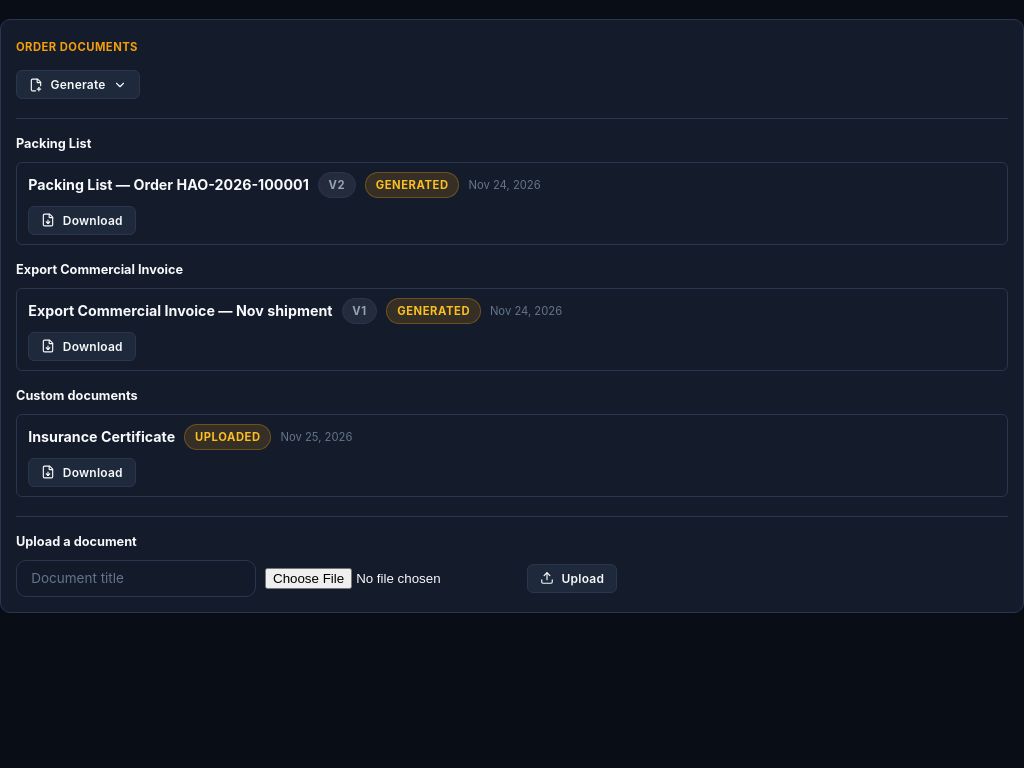
Test case: DocumentsPanel — generate › POSTs { type: packing_list } and the list refreshes
This screenshot has width=1024, height=768.
What coordinates should you click on to do the following:
click the button "Generate"
I would click on:
 (78, 84)
Its box is [16, 70, 140, 99].
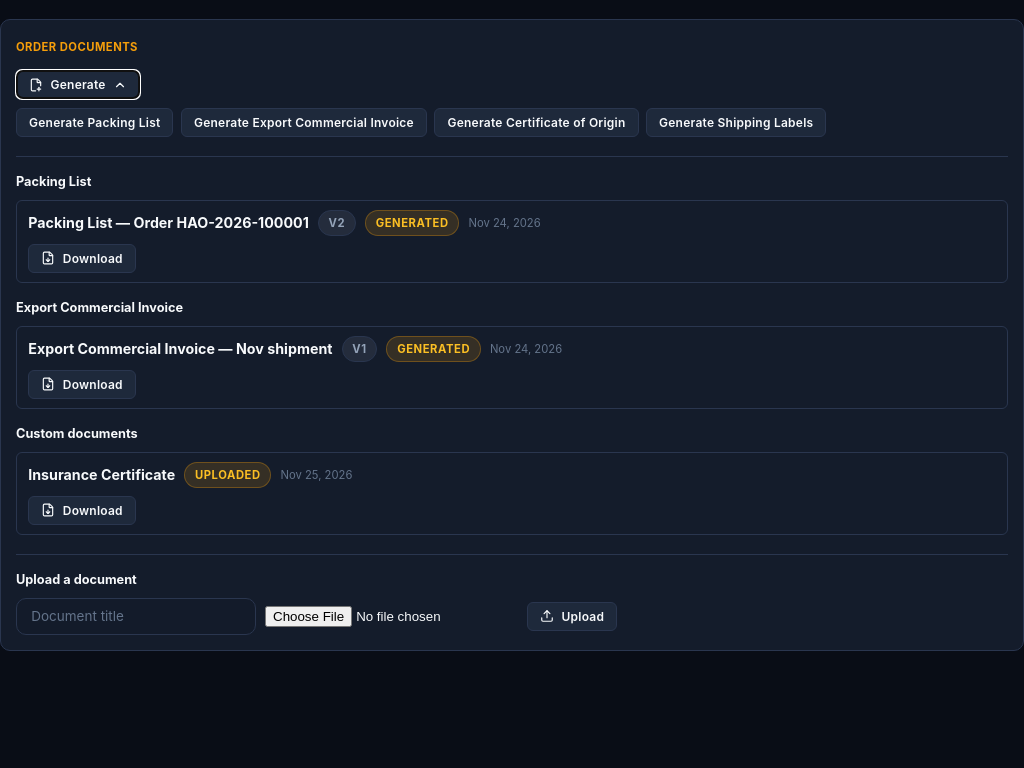
What coordinates should you click on to do the following:
click the button "Generate Packing List"
I would click on:
 (95, 122)
Its box is [16, 108, 174, 137].
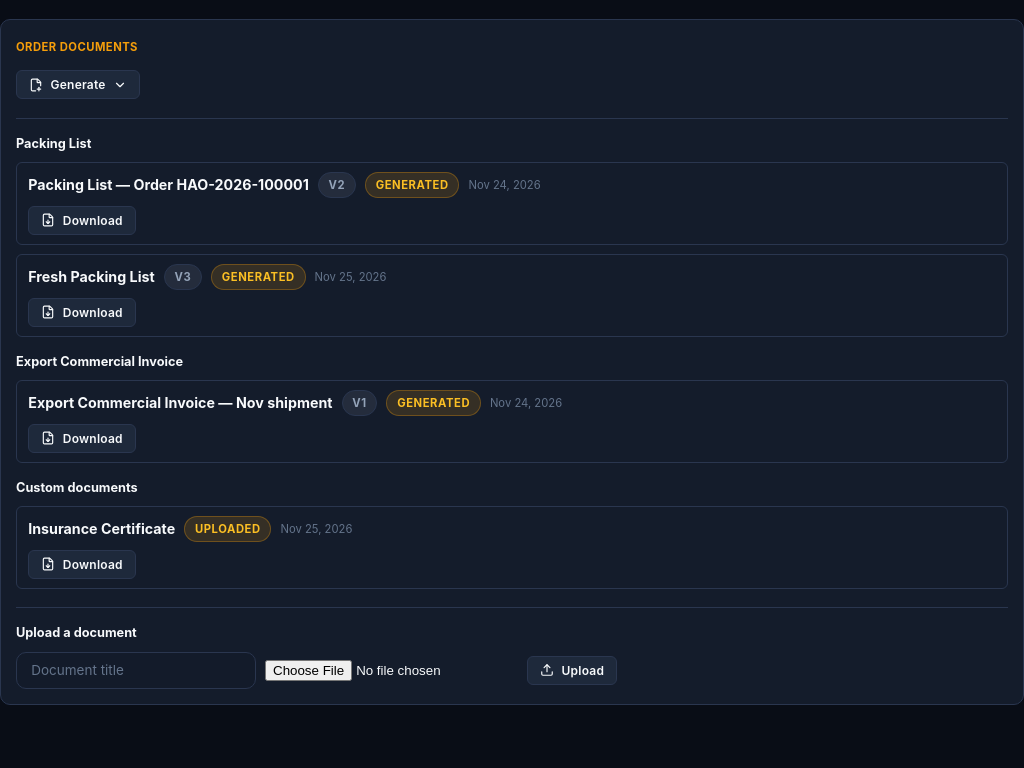
Expected: the text "Fresh Packing List" is shown, [28, 266, 155, 288]
Expected: the text "v3" is shown, [164, 264, 202, 290]
